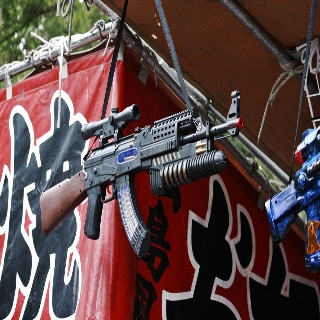rifle: (36, 91, 244, 257)
